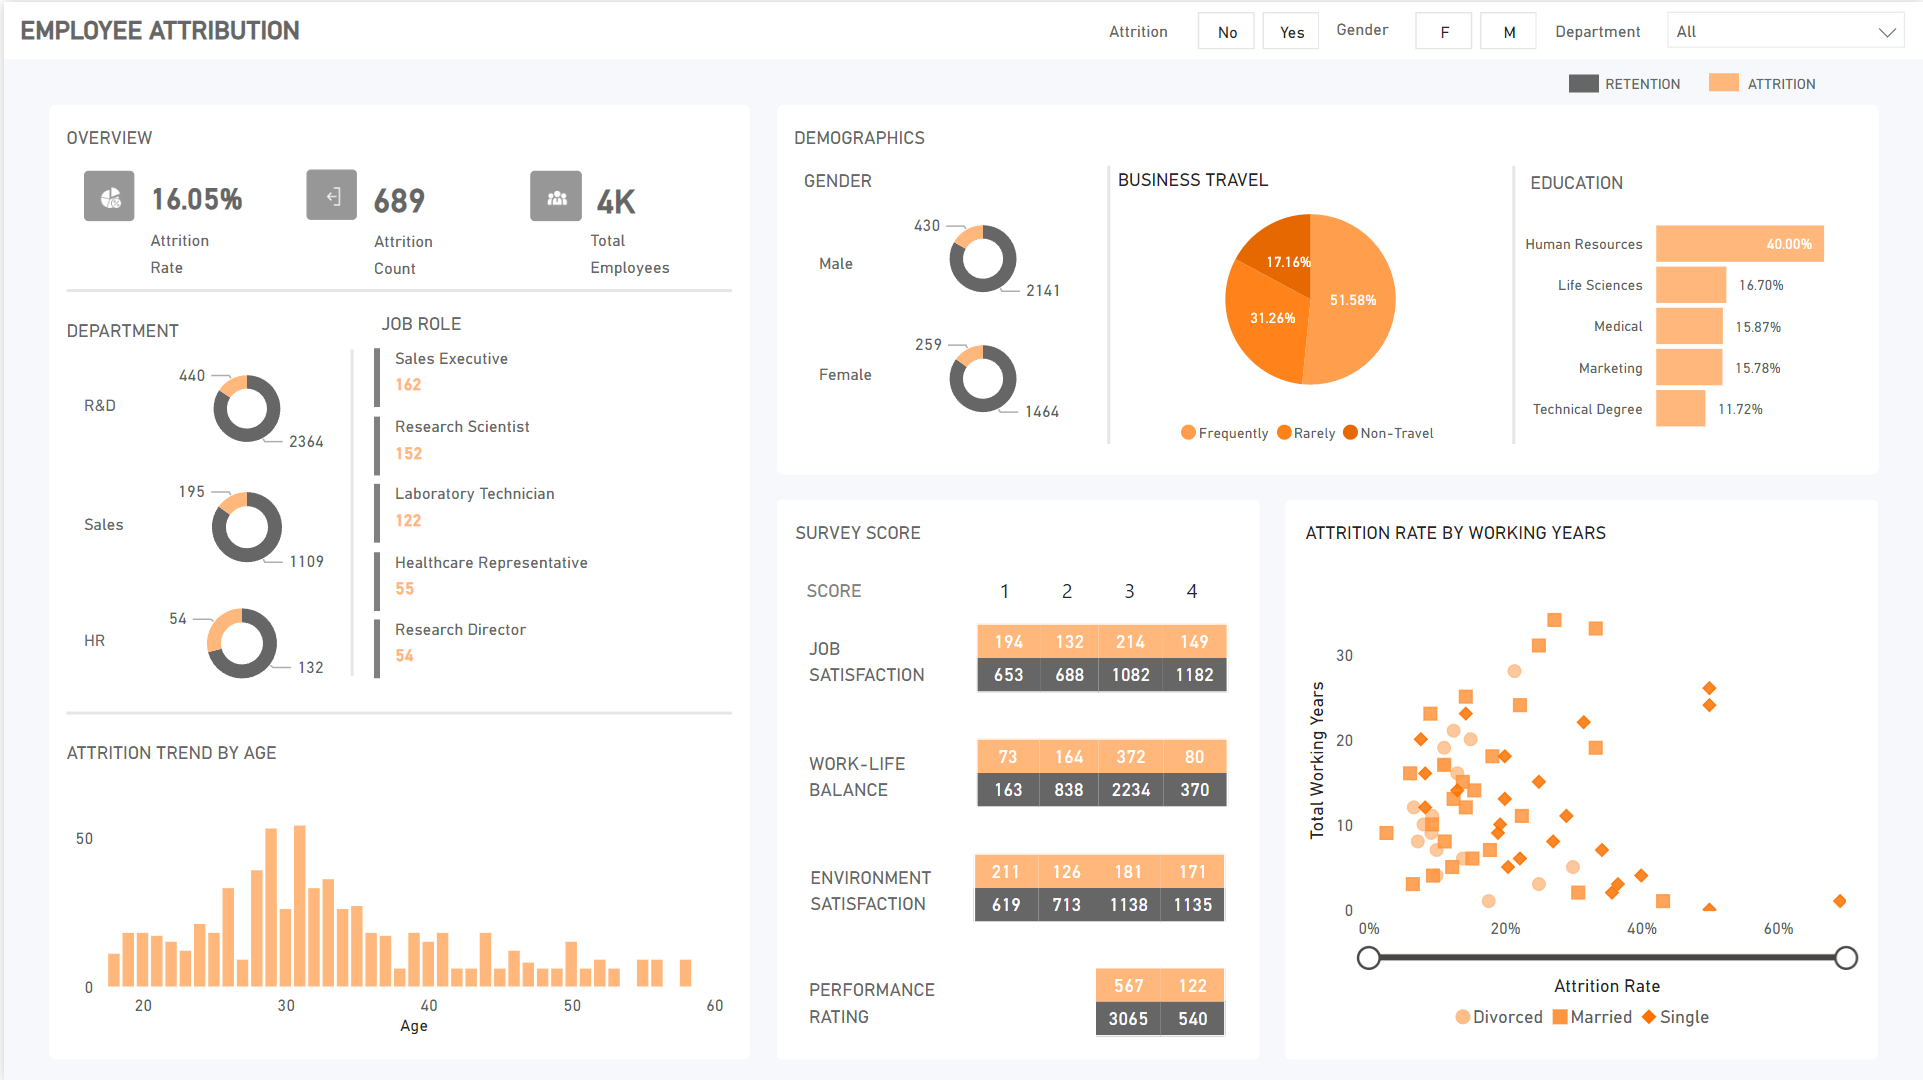

This screenshot's page, from the dashboard's own definition file:
{"tool":"powerbi","page":{"name":"Page 1","canvas":[1280,720],"ordinal":0},"visuals":[{"type":"shape","box":[515,331.9,322.2,373.4],"z":0},{"type":"shape","box":[515,68.1,735,246.9],"z":1000},{"type":"shape","box":[30,68.1,467.5,636.9],"z":2000},{"type":"shape","box":[0,0,1280.3,38.1],"z":3000},{"type":"image","box":[350.6,112.5,34.4,33.8],"z":3000,"group":"g3"},{"type":"slicer","fields":{"Values":["Attrition data.Department"]},"box":[1104,1.6,168.3,35.6],"z":4000},{"type":"textbox","box":[1034.5,9,69.4,20.9],"z":5000},{"type":"advancedSlicerVisual","fields":{"Values":["Attrition data.Gender"]},"box":[941.2,6.5,82.9,25.2],"z":6000},{"type":"textbox","box":[11.1,8.6,220.5,21.5],"z":7000},{"type":"textbox","box":[888.3,7.7,43.6,20.9],"z":8000},{"type":"advancedSlicerVisual","fields":{"Values":["Attrition data.Attrition"]},"box":[795.6,6.5,82.9,25.2],"z":9000},{"type":"textbox","box":[736.6,9.2,49.1,20.9],"z":10000},{"type":"textbox","box":[41.9,80,80.6,20.6],"z":11000},{"type":"shape","box":[1043.6,48,20,12],"z":12000},{"type":"group","id":"g1","title":"Group 1","box":[53.1,112.5,123.1,71.2],"z":13000},{"type":"group","id":"g2","title":"Group 2","box":[201.9,111.2,123.1,73],"z":14000},{"type":"shape","box":[41.9,180.6,443.8,23.1],"z":15000},{"type":"group","id":"g3","title":"Group 3","box":[350.6,112.5,123.8,71.2],"z":16000},{"type":"cardVisual","fields":{"Data":["Attrition data.Total Employees"]},"box":[385,112.5,89.4,32.5],"z":17000,"group":"g3"},{"type":"shape","box":[225.6,231.2,12.5,217.5],"z":17000},{"type":"cardVisual","fields":{"Data":["Attrition data.Attrition Count"]},"box":[235.7,111.2,89.4,32.5],"z":18000,"group":"g2"},{"type":"cardVisual","fields":{"Data":["Attrition data.Attrition Rate"]},"box":[86.9,112.5,89.4,32.5],"z":18000,"group":"g1"},{"type":"textbox","box":[41.9,209.4,86.2,20.6],"z":18000},{"type":"textbox","box":[96.9,148.7,49.6,35],"z":19000,"group":"g1"},{"type":"textbox","box":[390.8,148.7,65.9,35],"z":19000,"group":"g3"},{"type":"textbox","box":[53.1,258.1,48.8,20.6],"z":19000},{"type":"image","box":[201.9,111.2,33.8,33.8],"z":20000,"group":"g2"},{"type":"textbox","box":[53.1,337.5,48.8,20.6],"z":20000},{"type":"textbox","box":[246.7,148.4,48,35.8],"z":21000,"group":"g2"},{"type":"textbox","box":[53.1,415,48.8,20.6],"z":21000},{"type":"image","box":[53.1,112.5,33.8,33.8],"z":22000,"group":"g1"},{"type":"donutChart","fields":{"Y":["CountNonNull(R&D Attrition.Attrition)"],"Category":["R&D Attrition.Attrition"]},"box":[101.9,237.5,120.6,62.5],"z":22000},{"type":"donutChart","fields":{"Y":["CountNonNull(Sales Attrition.Attrition)"],"Category":["Sales Attrition.Attrition"]},"box":[101.9,315,120.6,65.6],"z":23000},{"type":"donutChart","fields":{"Y":["CountNonNull(HR Attrition.Attrition)"],"Category":["HR Attrition.Attrition"]},"box":[98.1,392.5,120.6,65.6],"z":24000},{"type":"textbox","box":[251.9,203.8,86.2,20.6],"z":25000},{"type":"multiRowCard","fields":{"Values":["Attrition data.Job Role","Count(Attrition data)"]},"box":[246.5,231.1,227.8,231.1],"z":26000},{"type":"shape","box":[41.9,462.5,443.8,23.1],"z":27000},{"type":"clusteredColumnChart","fields":{"Category":["Attrition data.Age"],"Y":["Count(Attrition data)"]},"box":[41.9,523.1,443.8,170],"z":28000},{"type":"textbox","box":[41.9,490,196.2,20.6],"z":29000},{"type":"textbox","box":[526.9,80,99.4,20.6],"z":30000},{"type":"donutChart","fields":{"Y":["Sum(Male Attrition Counts.No)","Sum(Male Attrition Counts.Yes)"]},"box":[592.4,137.7,120.4,62.6],"z":31000},{"type":"donutChart","fields":{"Y":["Sum(Female Attrition Counts.No)","Sum(Female Attrition Counts.Yes)"]},"box":[592.4,217.4,120.4,62.6],"z":32000},{"type":"textbox","box":[543.6,163.7,48.8,20.3],"z":33000},{"type":"textbox","box":[543.6,237.7,48.8,21.2],"z":34000},{"type":"shape","box":[729.8,109,13,185.5],"z":35000},{"type":"textbox","box":[533.7,109,86.2,20.3],"z":36000},{"type":"shape","box":[999.9,109,13,185.5],"z":37000},{"type":"textbox","box":[1017.8,109.8,86.2,20.3],"z":38000},{"type":"clusteredBarChart","fields":{"Category":["Attrition data.Education Field"],"Y":["Attrition data.Attrition Rate"]},"box":[1012.9,130.2,231.1,164.3],"z":39000},{"type":"textbox","box":[742.8,108.2,145.6,20.3],"z":40000},{"type":"pieChart","fields":{"Category":["Attrition data.BusinessTravel"],"Y":["Attrition data.Attrition Rate"]},"box":[742.8,123.7,257.1,176.5],"z":41000},{"type":"textbox","box":[527.2,343.3,99.3,20.3],"z":42000},{"type":"textbox","box":[537,648.4,99.3,38.2],"z":43000},{"type":"group","id":"g4","title":"Group 5","box":[639.6,372.6,210.5,323],"z":44000},{"type":"tableEx","fields":{"Values":["Performance Rating.1","Performance Rating.2","Performance Rating.3","Performance Rating.4"]},"box":[639.6,602.8,192.8,92.7],"z":44000,"group":"g4"},{"type":"textbox","box":[537.1,573.6,99.3,36.6],"z":45000},{"type":"textbox","box":[537,497.1,99.3,36.6],"z":46000},{"type":"tableEx","fields":{"Values":["Environment Satisfaction.1","Environment Satisfaction.2","Environment Satisfaction.3","Environment Satisfaction.4"]},"box":[639.6,526.4,209.1,92.7],"z":46000,"group":"g4"},{"type":"textbox","box":[537,420.6,99.3,39.1],"z":47000},{"type":"tableEx","fields":{"Values":["WorkLifeBalance.1","WorkLifeBalance.2","WorkLifeBalance.3","WorkLifeBalance.4"]},"box":[641.2,449.9,208.3,92.7],"z":47000,"group":"g4"},{"type":"textbox","box":[534.7,382.4,99.3,18.7],"z":48000},{"type":"shape","box":[646.9,375.9,185.5,31.7],"z":48500,"group":"g5"},{"type":"shape","box":[1136.4,47.2,20.3,12.2],"z":49000},{"type":"shape","box":[641.2,460.5,185.5,30.1],"z":49000,"group":"g4"},{"type":"textbox","box":[1067.4,43.1,61,20.3],"z":50000},{"type":"tableEx","fields":{"Values":["Job Satisfaction.1","Job Satisfaction.2","Job Satisfaction.3","Job Satisfaction.4"]},"box":[641.1,373.4,209.1,105.8],"z":50000,"group":"g4"},{"type":"textbox","box":[1162.4,43.1,55.3,20.3],"z":51000},{"type":"shape","box":[639.6,544.3,185.5,22.8],"z":51000,"group":"g4"},{"type":"shape","box":[854.2,331.9,395.4,373.4],"z":52000},{"type":"shape","box":[641.2,536.9,185.5,30.1],"z":52000,"group":"g4"},{"type":"scatterChart","fields":{"X":["Attrition data.Attrition Rate"],"Y":["Attrition data.Total Working Years"],"Series":["Attrition data.Marital Status"]},"box":[864,392.1,379.9,303.5],"z":53000},{"type":"shape","box":[639.6,613.4,185.5,30.1],"z":53000,"group":"g4"},{"type":"textbox","box":[867.3,343.3,244.9,20.3],"z":54000},{"type":"textbox","box":[646.9,372.6,39.1,39.1],"z":54000,"group":"g5"},{"type":"textbox","box":[730.4,372.6,39.1,39.1],"z":55000,"group":"g5"},{"type":"textbox","box":[688.7,372.6,39.1,39.1],"z":56000,"group":"g5"},{"type":"textbox","box":[772.2,372.6,39.1,39.1],"z":57000,"group":"g5"},{"type":"group","id":"g5","title":"Group 4","box":[646.9,372.6,185.5,39.1],"z":57001,"group":"g4"}]}

Visuals, with their boxes in screenshot pixels (x1, y1, x2, y2), scaled from the page's 1280x720 canvas onto the 1923x1080 screenshot:
shape: x1=774 y1=498 x2=1258 y2=1058
shape: x1=774 y1=102 x2=1878 y2=472
shape: x1=45 y1=102 x2=747 y2=1058
shape: x1=0 y1=0 x2=1922 y2=57
image: x1=527 y1=169 x2=578 y2=219
slicer - Attrition data.Department: x1=1659 y1=2 x2=1911 y2=56
textbox: x1=1554 y1=14 x2=1658 y2=45
advancedSlicerVisual - Attrition data.Gender: x1=1414 y1=10 x2=1539 y2=48
textbox: x1=17 y1=13 x2=348 y2=45
textbox: x1=1335 y1=12 x2=1400 y2=43
advancedSlicerVisual - Attrition data.Attrition: x1=1195 y1=10 x2=1320 y2=48
textbox: x1=1107 y1=14 x2=1180 y2=45
textbox: x1=63 y1=120 x2=184 y2=151
shape: x1=1568 y1=72 x2=1598 y2=90
"Group 1" group: x1=80 y1=169 x2=265 y2=276
"Group 2" group: x1=303 y1=167 x2=488 y2=276
shape: x1=63 y1=271 x2=730 y2=306
"Group 3" group: x1=527 y1=169 x2=713 y2=276
cardVisual - Attrition data.Total Employees: x1=578 y1=169 x2=713 y2=218
shape: x1=339 y1=347 x2=358 y2=673
cardVisual - Attrition data.Attrition Count: x1=354 y1=167 x2=488 y2=216
cardVisual - Attrition data.Attrition Rate: x1=131 y1=169 x2=265 y2=218
textbox: x1=63 y1=314 x2=192 y2=345
textbox: x1=146 y1=223 x2=220 y2=276
textbox: x1=587 y1=223 x2=686 y2=276
textbox: x1=80 y1=387 x2=153 y2=418
image: x1=303 y1=167 x2=354 y2=218
textbox: x1=80 y1=506 x2=153 y2=537
textbox: x1=371 y1=223 x2=443 y2=276
textbox: x1=80 y1=622 x2=153 y2=653
image: x1=80 y1=169 x2=131 y2=219
donutChart - CountNonNull(R&D Attrition.Attrition) x R&D Attrition.Attrition: x1=153 y1=356 x2=334 y2=450
donutChart - CountNonNull(Sales Attrition.Attrition) x Sales Attrition.Attrition: x1=153 y1=472 x2=334 y2=571
donutChart - CountNonNull(HR Attrition.Attrition) x HR Attrition.Attrition: x1=147 y1=589 x2=329 y2=687
textbox: x1=378 y1=306 x2=508 y2=337
multiRowCard - Attrition data.Job Role x Count(Attrition data): x1=370 y1=347 x2=713 y2=693
shape: x1=63 y1=694 x2=730 y2=728
clusteredColumnChart - Attrition data.Age x Count(Attrition data): x1=63 y1=785 x2=730 y2=1040
textbox: x1=63 y1=735 x2=358 y2=766
textbox: x1=792 y1=120 x2=941 y2=151
donutChart - Sum(Male Attrition Counts.No) x Sum(Male Attrition Counts.Yes): x1=890 y1=207 x2=1071 y2=300
donutChart - Sum(Female Attrition Counts.No) x Sum(Female Attrition Counts.Yes): x1=890 y1=326 x2=1071 y2=420
textbox: x1=817 y1=246 x2=890 y2=276
textbox: x1=817 y1=357 x2=890 y2=388
shape: x1=1096 y1=164 x2=1116 y2=442
textbox: x1=802 y1=164 x2=931 y2=194
shape: x1=1502 y1=164 x2=1522 y2=442
textbox: x1=1529 y1=165 x2=1659 y2=195
clusteredBarChart - Attrition data.Education Field x Attrition data.Attrition Rate: x1=1522 y1=195 x2=1869 y2=442
textbox: x1=1116 y1=162 x2=1335 y2=193
pieChart - Attrition data.BusinessTravel x Attrition data.Attrition Rate: x1=1116 y1=186 x2=1502 y2=450
textbox: x1=792 y1=515 x2=941 y2=545
textbox: x1=807 y1=973 x2=956 y2=1030
"Group 5" group: x1=961 y1=559 x2=1277 y2=1043
tableEx - Performance Rating.1 x Performance Rating.2: x1=961 y1=904 x2=1251 y2=1043
textbox: x1=807 y1=860 x2=956 y2=915
textbox: x1=807 y1=746 x2=956 y2=801
tableEx - Environment Satisfaction.1 x Environment Satisfaction.2: x1=961 y1=790 x2=1275 y2=929
textbox: x1=807 y1=631 x2=956 y2=690
tableEx - WorkLifeBalance.1 x WorkLifeBalance.2: x1=963 y1=675 x2=1276 y2=814
textbox: x1=803 y1=574 x2=952 y2=602
shape: x1=972 y1=564 x2=1251 y2=611
shape: x1=1707 y1=71 x2=1738 y2=89
shape: x1=963 y1=691 x2=1242 y2=736
textbox: x1=1604 y1=65 x2=1695 y2=95
tableEx - Job Satisfaction.1 x Job Satisfaction.2: x1=963 y1=560 x2=1277 y2=719
textbox: x1=1746 y1=65 x2=1829 y2=95
shape: x1=961 y1=816 x2=1240 y2=851
shape: x1=1283 y1=498 x2=1877 y2=1058
shape: x1=963 y1=805 x2=1242 y2=850
scatterChart - Attrition data.Attrition Rate x Attrition data.Total Working Years: x1=1298 y1=588 x2=1869 y2=1043
shape: x1=961 y1=920 x2=1240 y2=965
textbox: x1=1303 y1=515 x2=1671 y2=545
textbox: x1=972 y1=559 x2=1031 y2=618
textbox: x1=1097 y1=559 x2=1156 y2=618
textbox: x1=1035 y1=559 x2=1093 y2=618
textbox: x1=1160 y1=559 x2=1219 y2=618
"Group 4" group: x1=972 y1=559 x2=1251 y2=618
